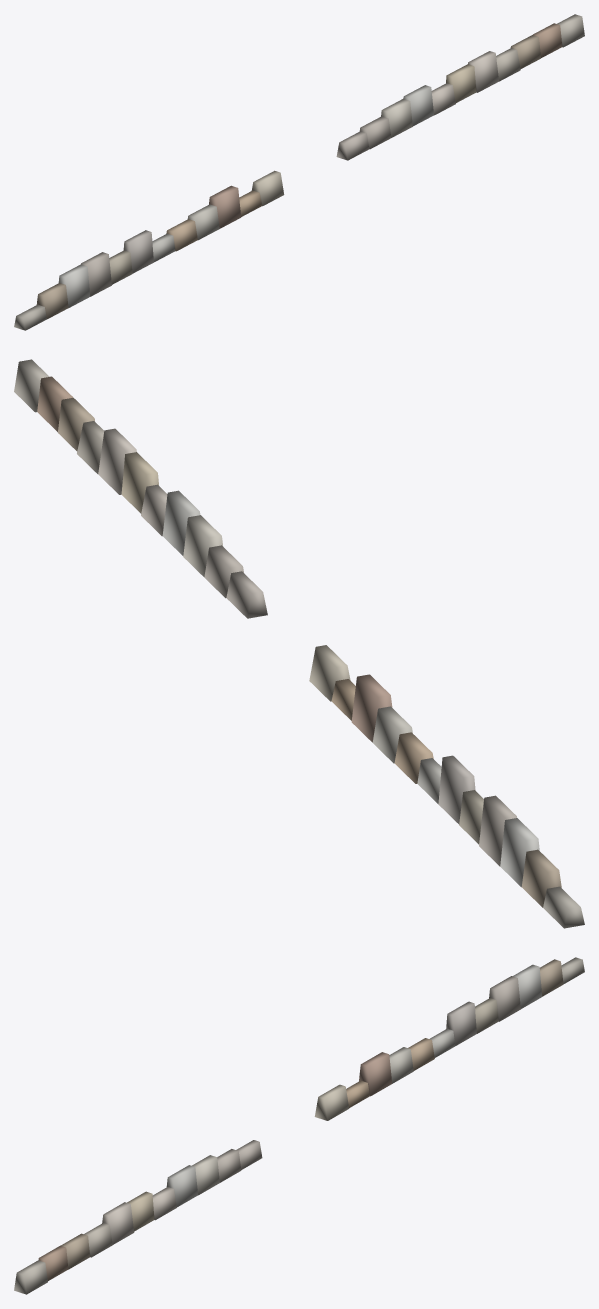
File: farm_1_-1_collision.glb
3 renders of one model, top to bottom at view 1: azimuth 90°, elevation 25°; view 2: azimuth 150°, elevation 25°; view 3: azimuth 270°, elevation 25°, orthographic. The views are drawn at different scales.
Visible parts, largest first — view 1: geometry_0; view 2: geometry_0; view 3: geometry_0.
Part boxes in pixels (x1=…): geometry_0: x1=14, y1=14, x2=584, y2=330; geometry_0: x1=14, y1=359, x2=584, y2=928; geometry_0: x1=14, y1=957, x2=584, y2=1294.
Size of the model in its own units: 33.02 by 2.11 by 25.5.
